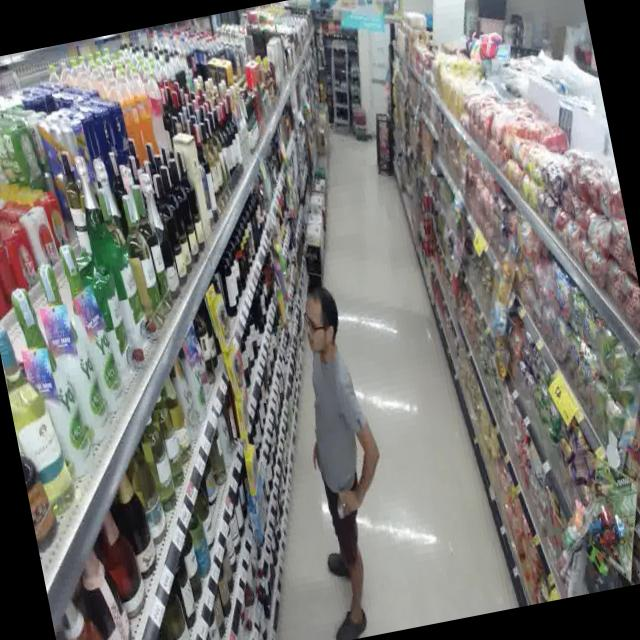shoplifting: (253, 261, 425, 640)
